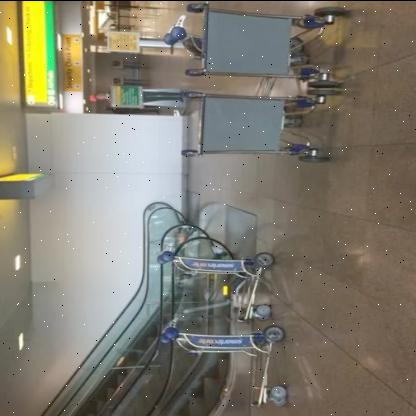airport-trolley: (162, 0, 352, 97), (159, 324, 291, 412), (176, 90, 328, 166), (157, 242, 280, 331)
